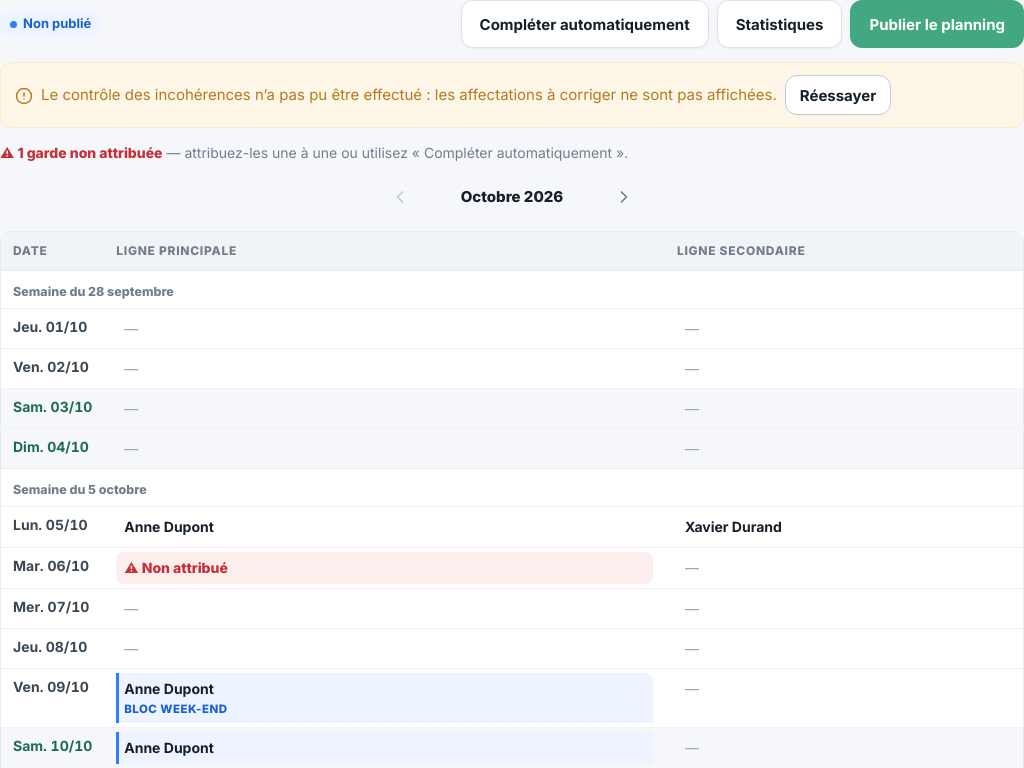
PlanningCalendar › opens the editor of a duty for a manager — any day of a block opens the block
The width and height of the screenshot is (1024, 768).
Click the button with aria-label "Modifier : Anne Dupont — bloc Week-end, 2026-10-10" at (169, 747), box [116,732,653,764]
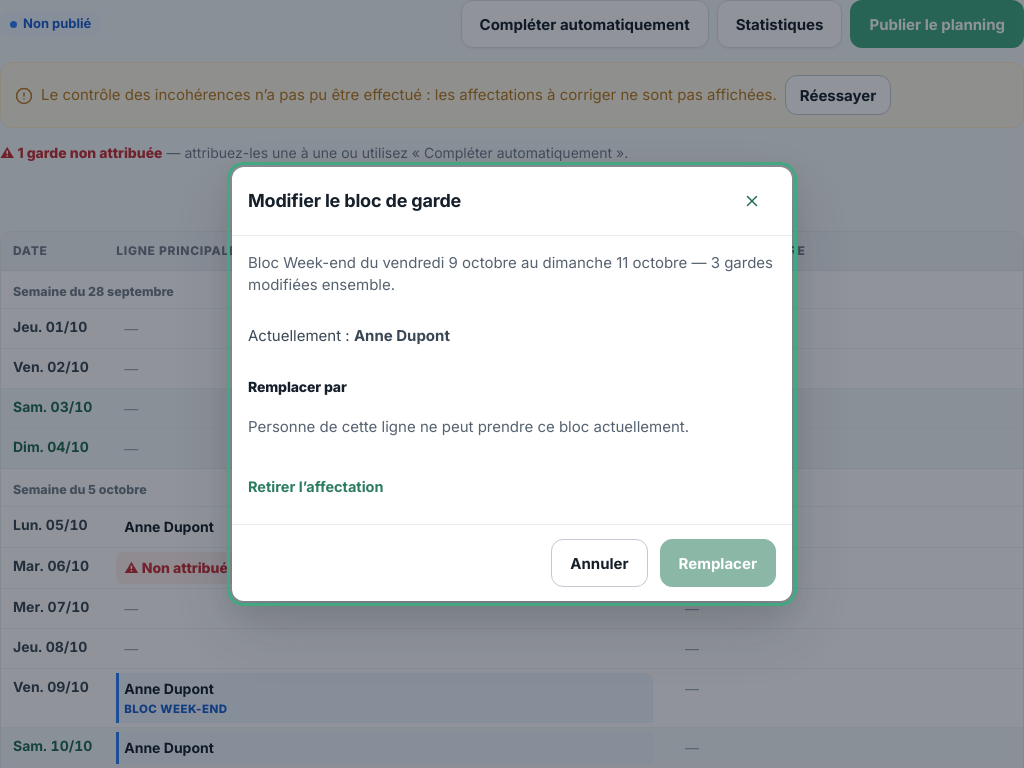
Expected: the heading "Modifier le bloc de garde" is shown, [248,191,461,211]
